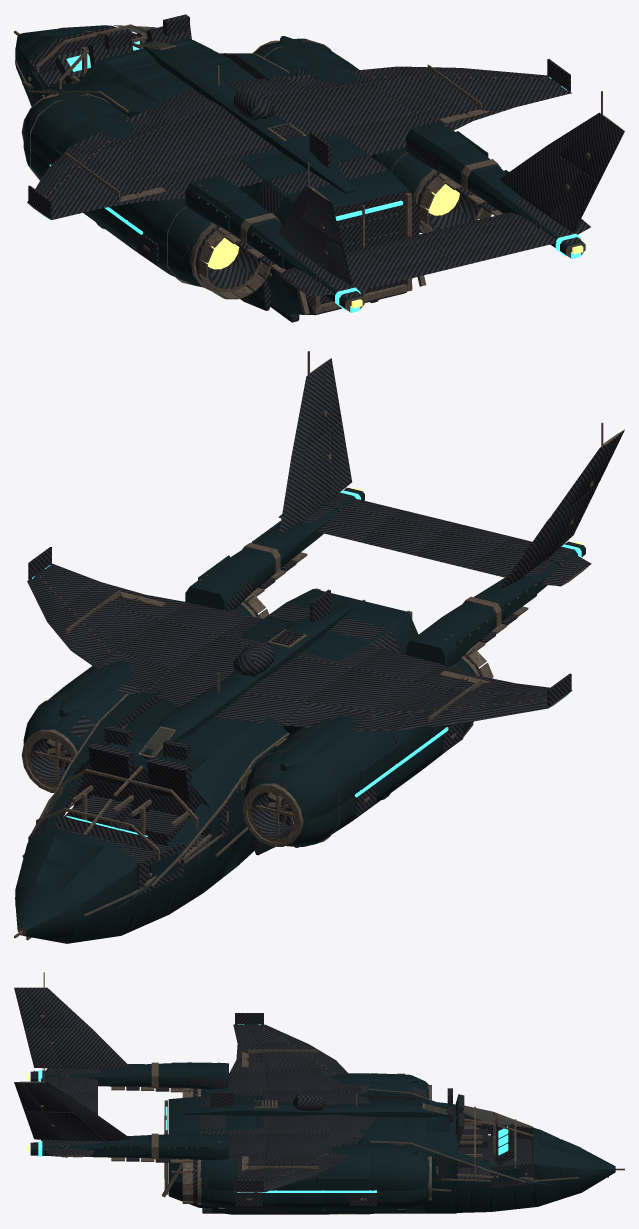
3 views of the same model, one above another, from view 1: azimuth 30°, elevation 25°; view 2: azimuth 150°, elevation 25°; view 3: azimuth 270°, elevation 25° (orthographic). The views are drawn at different scales.
Visible parts, largest first — view 1: kb7_core, kb7_tail_r, kb7_wing_r, kb7_tail_l, kb7_wing_l; view 2: kb7_core, kb7_tail_r, kb7_wing_r, kb7_tail_l, kb7_wing_l; view 3: kb7_core, kb7_tail_l, kb7_tail_r, kb7_wing_l, kb7_wing_r.
Boxes of the visible parts, bbox=[...] form: kb7_core: bbox=[14, 14, 585, 322]; kb7_tail_r: bbox=[415, 91, 624, 266]; kb7_wing_r: bbox=[352, 59, 571, 130]; kb7_tail_l: bbox=[278, 162, 457, 295]; kb7_wing_l: bbox=[27, 132, 185, 220]; kb7_core: bbox=[14, 487, 585, 943]; kb7_tail_r: bbox=[278, 351, 457, 555]; kb7_wing_r: bbox=[27, 547, 187, 669]; kb7_tail_l: bbox=[415, 422, 624, 589]; kb7_wing_l: bbox=[351, 664, 572, 731]; kb7_core: bbox=[26, 1062, 624, 1214]; kb7_tail_l: bbox=[14, 972, 130, 1110]; kb7_tail_r: bbox=[14, 1066, 130, 1157]; kb7_wing_l: bbox=[229, 1013, 348, 1073]; kb7_wing_r: bbox=[229, 1152, 348, 1192].
Size of the model in its own units: 5.9 by 2.96 by 9.09.
6 materials, 2 textured.
